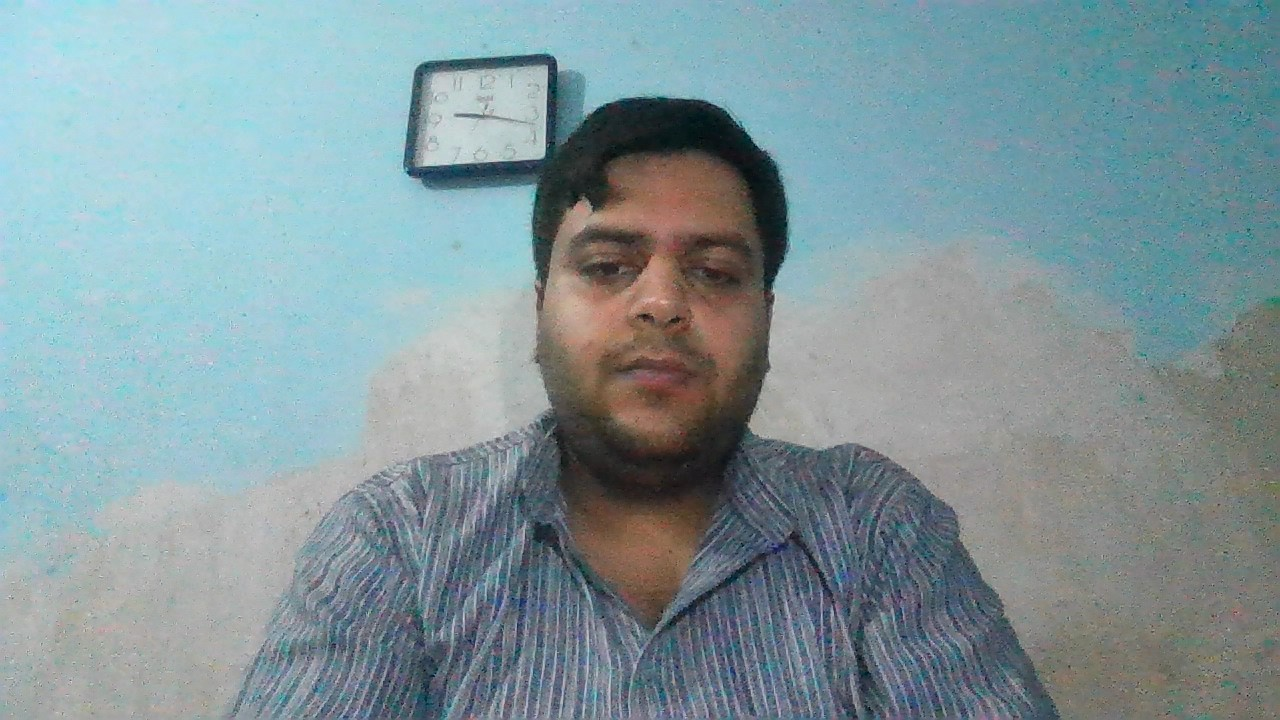No Mask: (532, 290, 780, 456)
